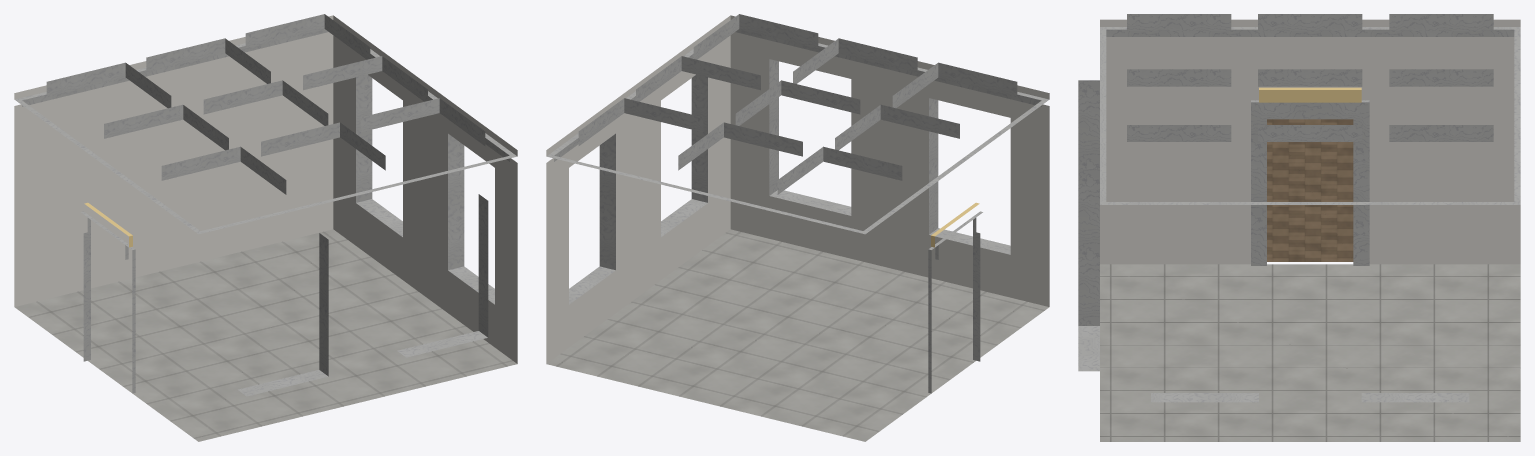
The model's file is greenhouse.glb.
3 renders of one model, left to right at view 1: azimuth 30°, elevation 25°; view 2: azimuth 150°, elevation 25°; view 3: azimuth 270°, elevation 25°, orthographic. The views are drawn at different scales.
Visible parts, largest first — view 1: greenhouse; view 2: greenhouse; view 3: greenhouse.
Part boxes in pixels (x1=…): greenhouse: x1=14, y1=14, x2=517, y2=441; greenhouse: x1=546, y1=14, x2=1049, y2=441; greenhouse: x1=1078, y1=14, x2=1520, y2=441.
Bounding box in the file's own units: 8.3 × 5.35 × 8.2.
Materials: 6 (3 with a texture image).
